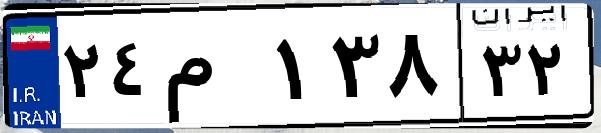1: (270, 28, 330, 110)
2: (57, 26, 110, 100), (525, 38, 570, 115)
3: (330, 28, 385, 110), (475, 38, 525, 113)
4: (110, 28, 158, 98)
8: (385, 28, 445, 110)
م: (158, 20, 270, 120)
